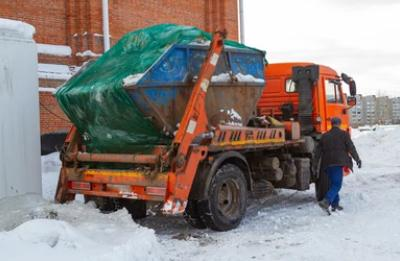vehicle: (55, 23, 356, 231)
